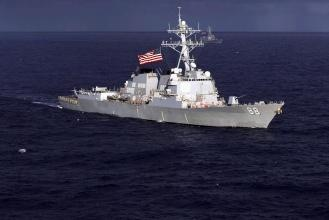warship: (56, 10, 291, 130)
